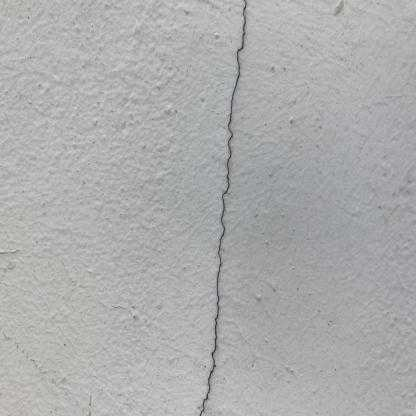crack: (198, 5, 248, 413)
